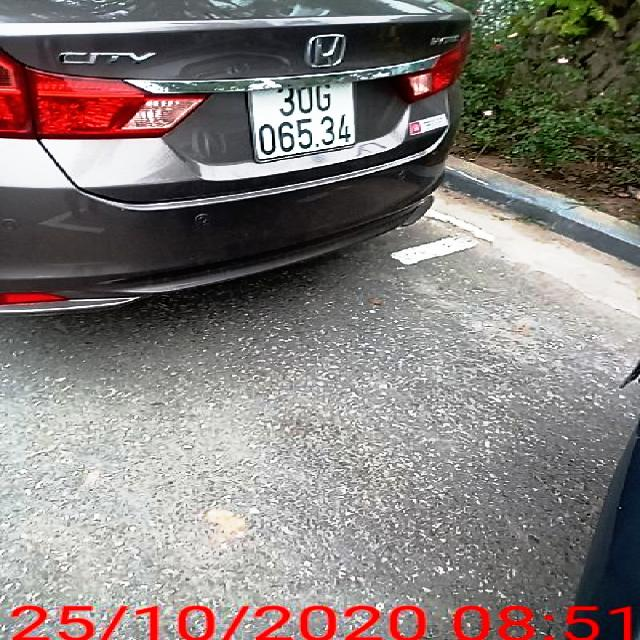license_plate: (251, 84, 357, 161)
